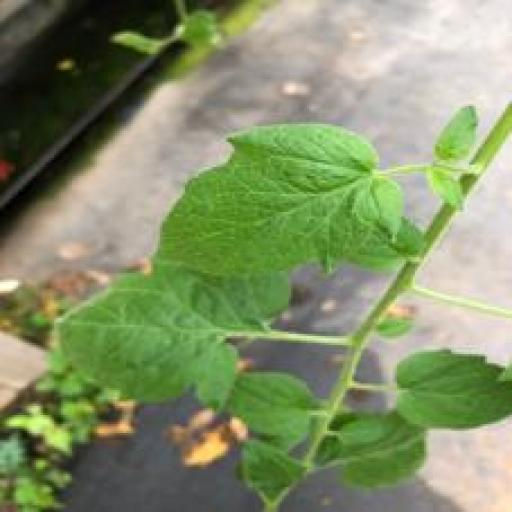Healthy: (146, 115, 405, 284), (41, 273, 268, 418), (394, 343, 512, 431)
